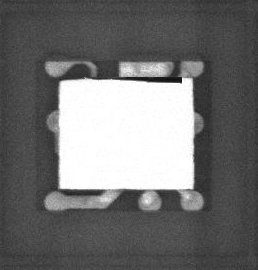DIE_BROKEN: (105, 75, 185, 85)
